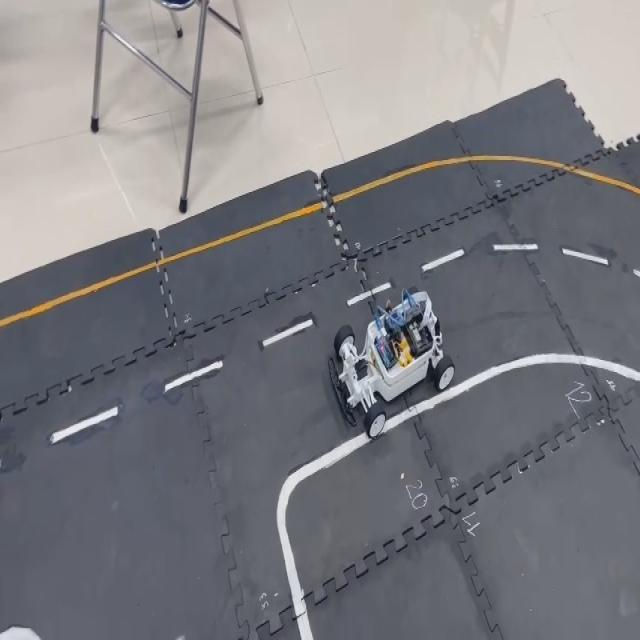SiCo-CAR: (327, 283, 455, 440)
